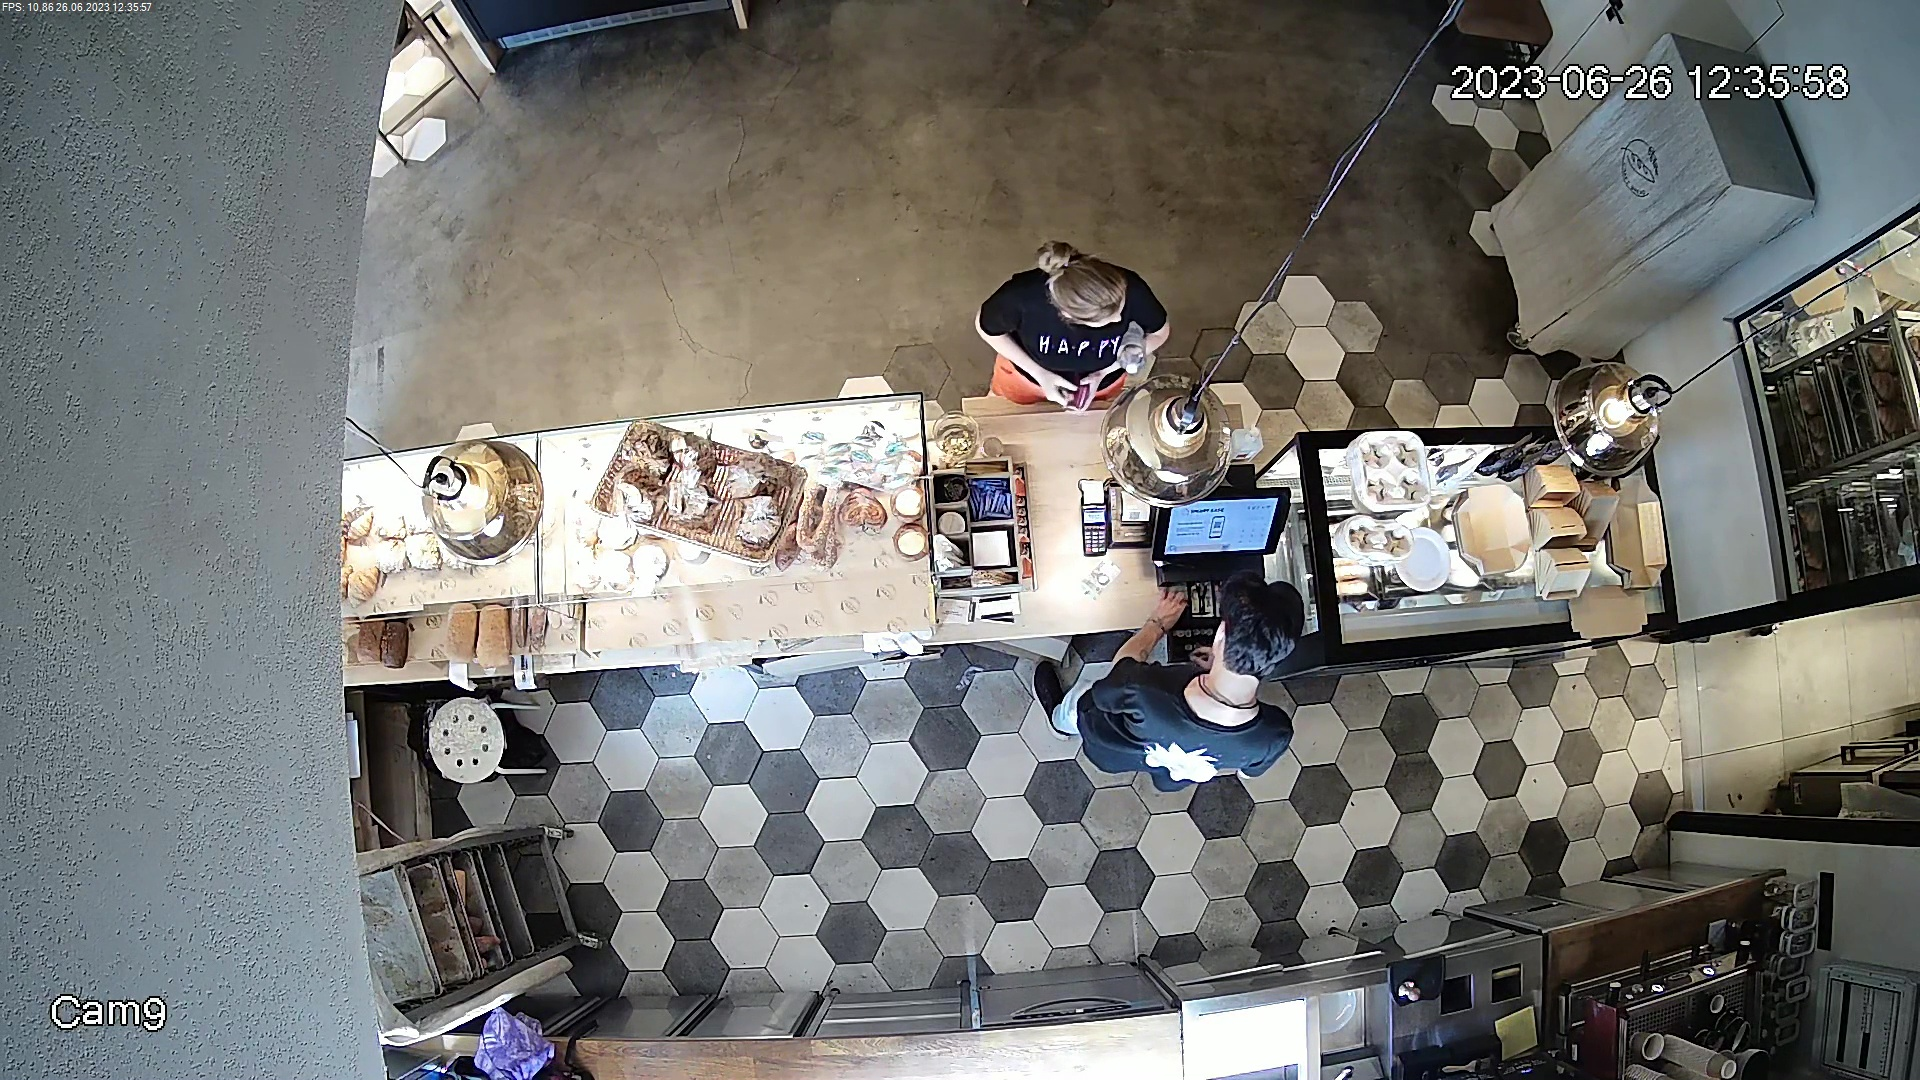barcounter: (354, 425, 1676, 687)
openedcash: (1150, 488, 1296, 677)
person: (967, 241, 1170, 415)
